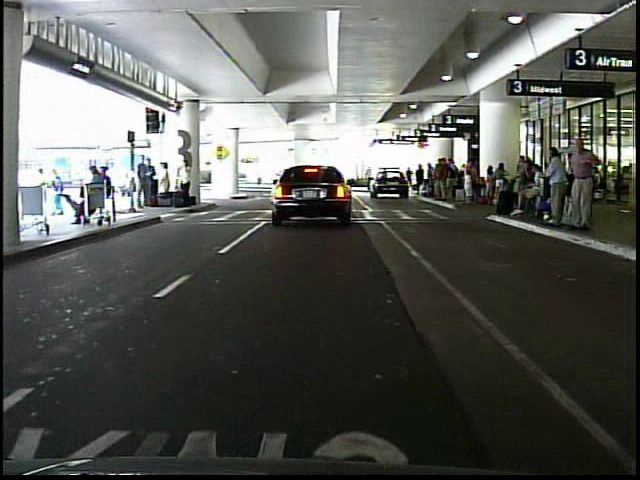person: (563, 134, 603, 236), (542, 144, 568, 229), (39, 162, 61, 220), (134, 152, 153, 209), (161, 160, 176, 205), (179, 158, 193, 204), (415, 160, 427, 197), (406, 160, 415, 194)
